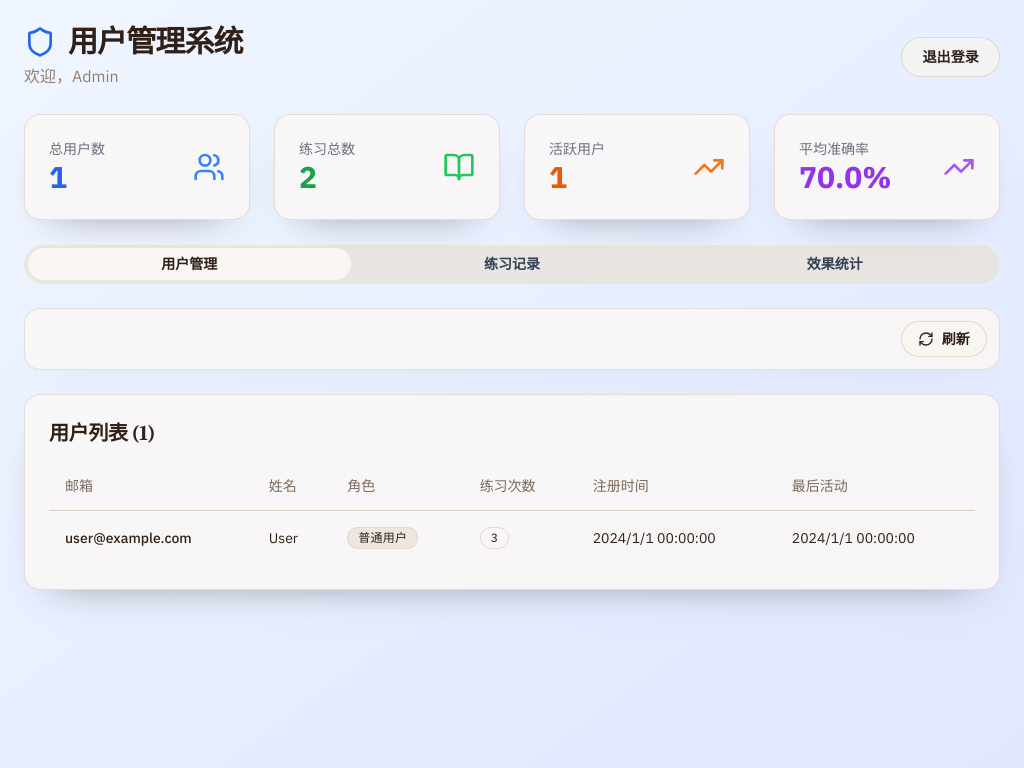
AdminPage › renders admin dashboard when authenticated
Check: the heading "用户管理系统" is shown, box [24,24,243,60]
Check: the heading "用户列表 (1)" is shown, box [49,419,155,447]
Click the tab "练习记录" at (512, 264), box [351,248,673,280]
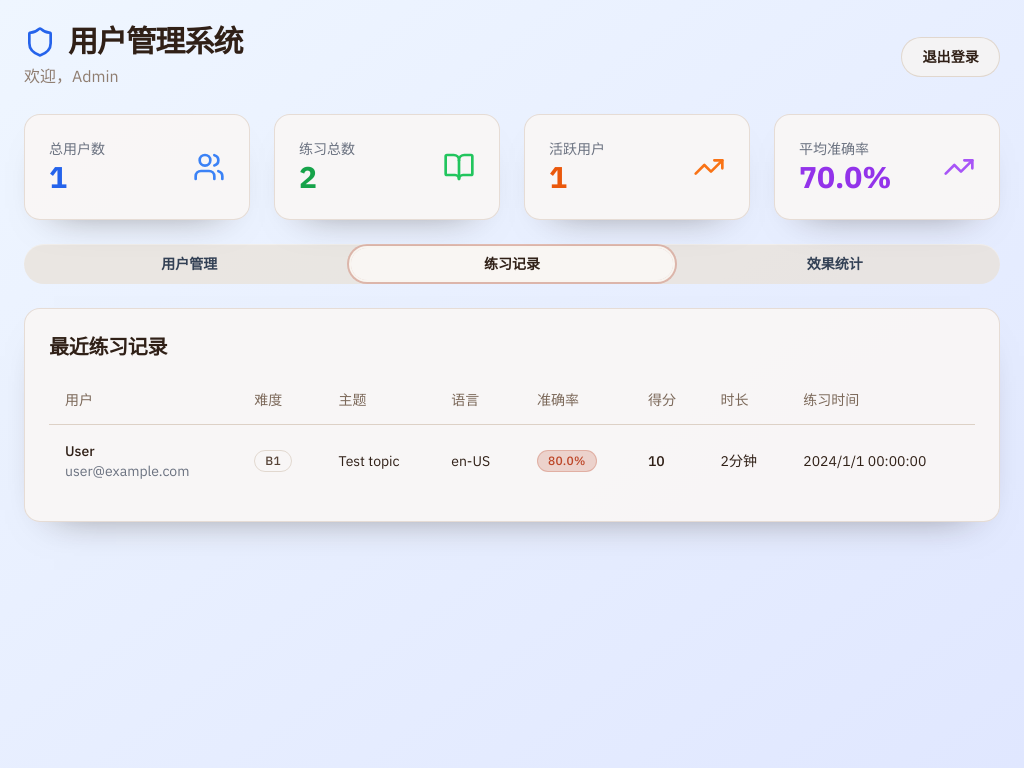
Check: the heading "最近练习记录" is shown, box [49,334,167,359]
Click the tab "效果统计" at (835, 264), box [673,248,996,280]
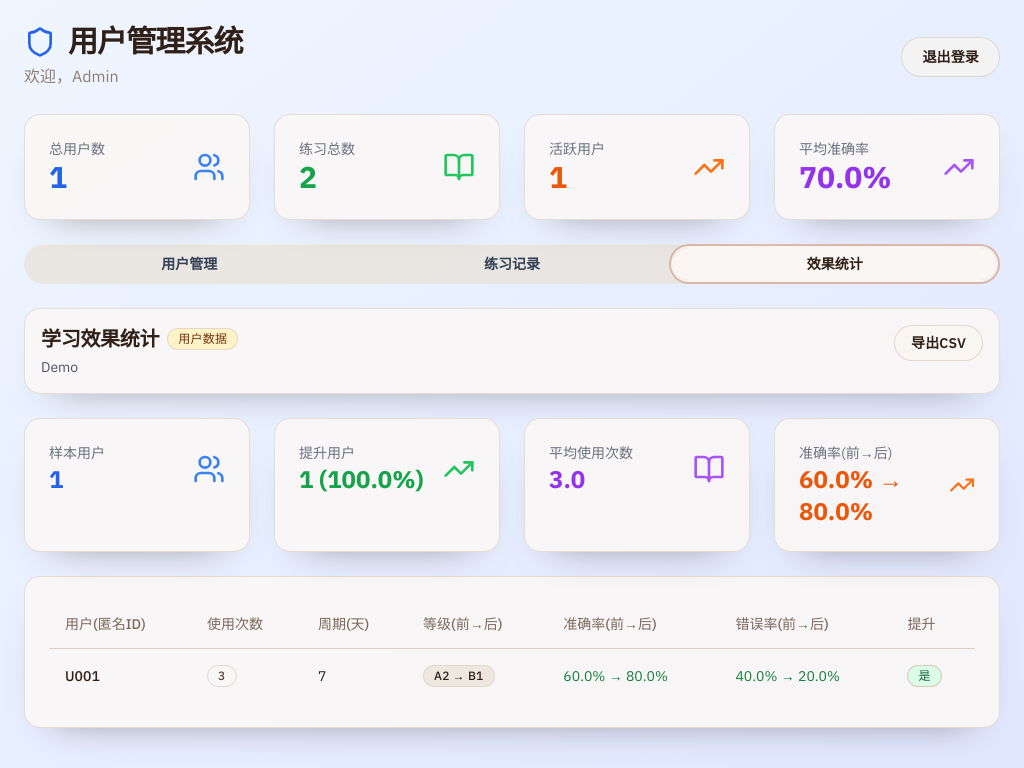
Check: the heading "学习效果统计" is shown, box [41,325,159,353]
